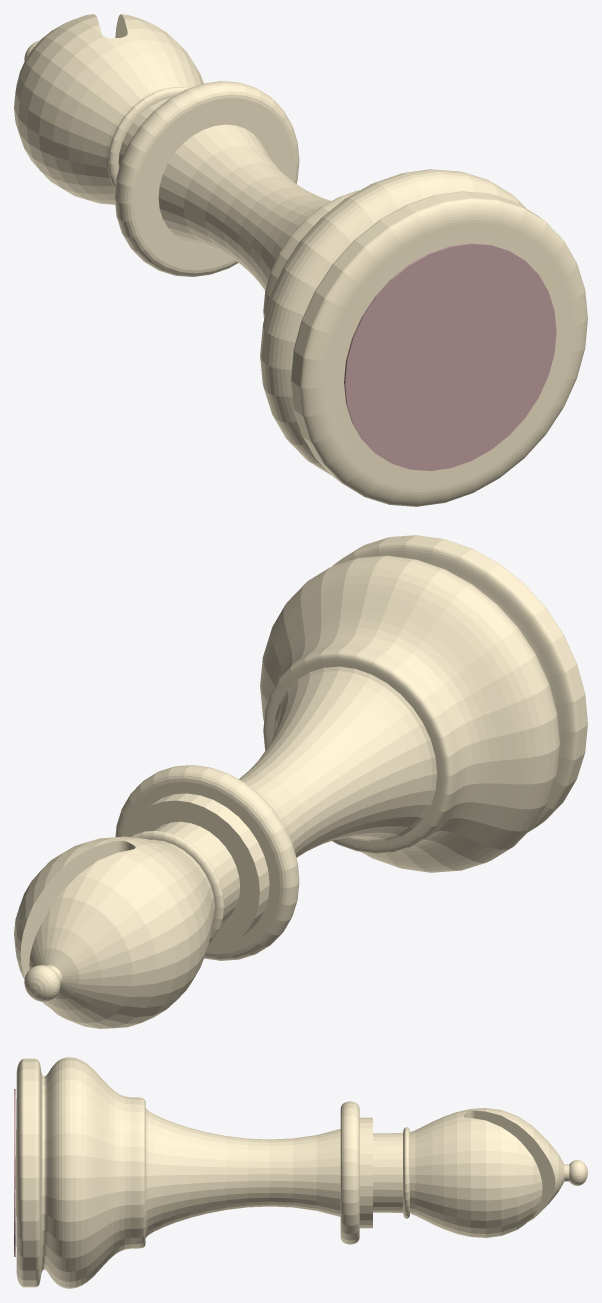
Rendered from bishop.glb.
3 views of the same model, one above another, from view 1: azimuth 30°, elevation 25°; view 2: azimuth 150°, elevation 25°; view 3: azimuth 270°, elevation 25° (orthographic). The views are drawn at different scales.
Visible parts, largest first — view 1: Bishop_Plastic_0, Bishop_Velvet_0; view 2: Bishop_Plastic_0; view 3: Bishop_Plastic_0, Bishop_Velvet_0.
Part boxes in pixels (<box>): Bishop_Plastic_0: <box>14,14,587,506</box>; Bishop_Velvet_0: <box>344,243,556,470</box>; Bishop_Plastic_0: <box>14,535,587,1028</box>; Bishop_Plastic_0: <box>15,1057,587,1288</box>; Bishop_Velvet_0: <box>14,1089,15,1256</box>.
Size of the model in its own units: 0.0268 by 0.0268 by 0.0664.
